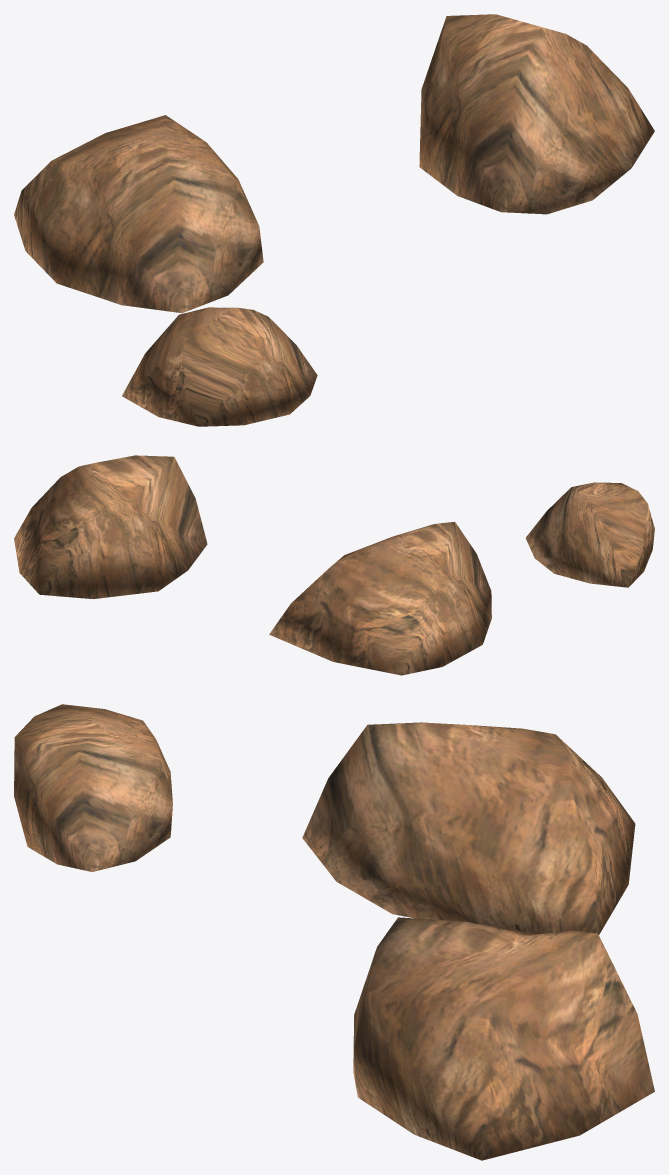
Rendered from rock_tatt_jundland_pebble_a2_l0.fbx.
3 views of the same model, one above another, from view 1: azimuth 30°, elevation 25°; view 2: azimuth 150°, elevation 25°; view 3: azimuth 270°, elevation 25° (orthographic). The views are drawn at different scales.
Parts seen in each view (by area): view 1: mesh_node; view 2: mesh_node; view 3: mesh_node.
Part boxes in pixels (x1=…): mesh_node: x1=14, y1=14, x2=654, y2=426; mesh_node: x1=14, y1=455, x2=654, y2=675; mesh_node: x1=14, y1=704, x2=654, y2=1160.
Size of the model in its own units: 1.01 by 0.1979 by 0.7151.
